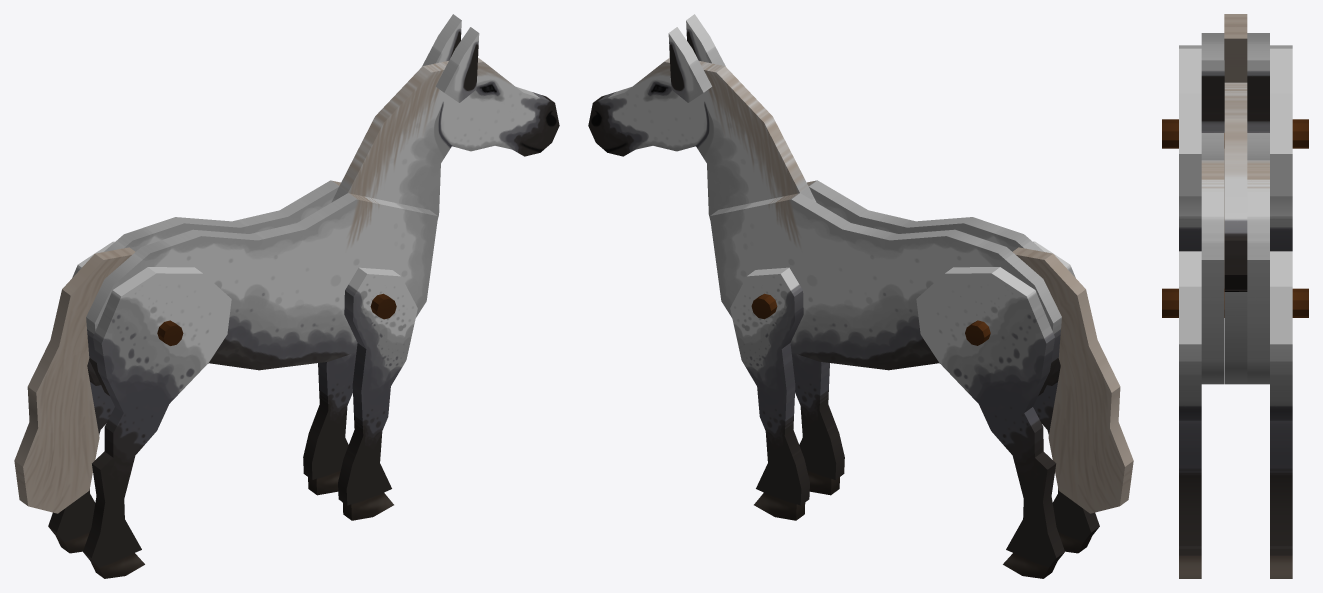
The model's file is Horse_1.fbx.
3 renders of one model, left to right at view 1: azimuth 30°, elevation 25°; view 2: azimuth 150°, elevation 25°; view 3: azimuth 270°, elevation 25°, orthographic. The views are drawn at different scales.
Visible parts, largest first — view 1: Horse_1_Body, Horse_1_Head; view 2: Horse_1_Body, Horse_1_Head; view 3: Horse_1_Body, Horse_1_Head.
Boxes of the visible parts, bbox=[...] form: Horse_1_Body: bbox=[14, 180, 437, 578]; Horse_1_Head: bbox=[331, 14, 559, 219]; Horse_1_Body: bbox=[710, 180, 1133, 578]; Horse_1_Head: bbox=[588, 14, 816, 219]; Horse_1_Body: bbox=[1162, 14, 1308, 578]; Horse_1_Head: bbox=[1201, 60, 1269, 384].
Bounding box in the file's own units: 2.1 × 1.68 × 0.3801.
